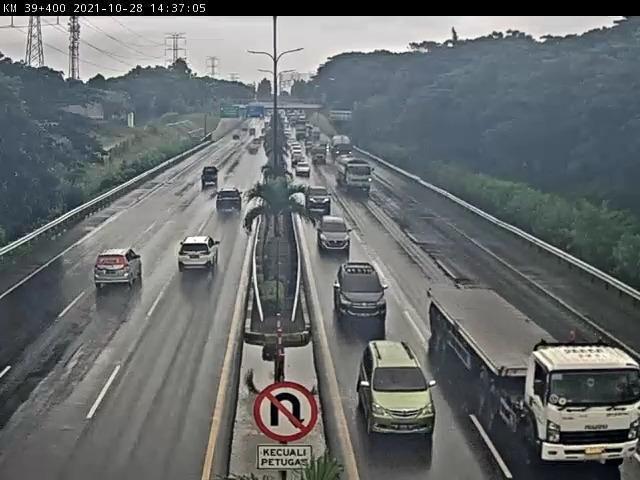car: (344, 331, 446, 448), (325, 255, 398, 331), (89, 238, 150, 301), (171, 225, 224, 283), (308, 205, 359, 265), (300, 175, 339, 225), (209, 182, 251, 225), (195, 157, 228, 197), (291, 161, 315, 186)
truck: (420, 252, 640, 480), (330, 154, 378, 201), (327, 132, 360, 167)
